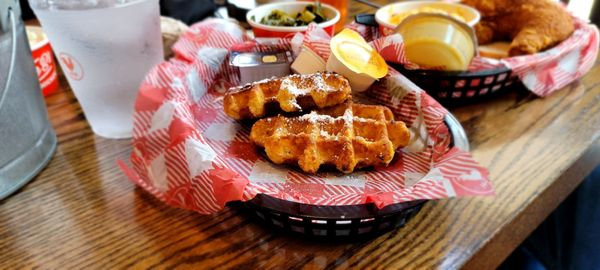pizza: (28, 0, 165, 140), (0, 0, 59, 203)
sushi: (379, 4, 479, 71), (246, 1, 344, 40)
